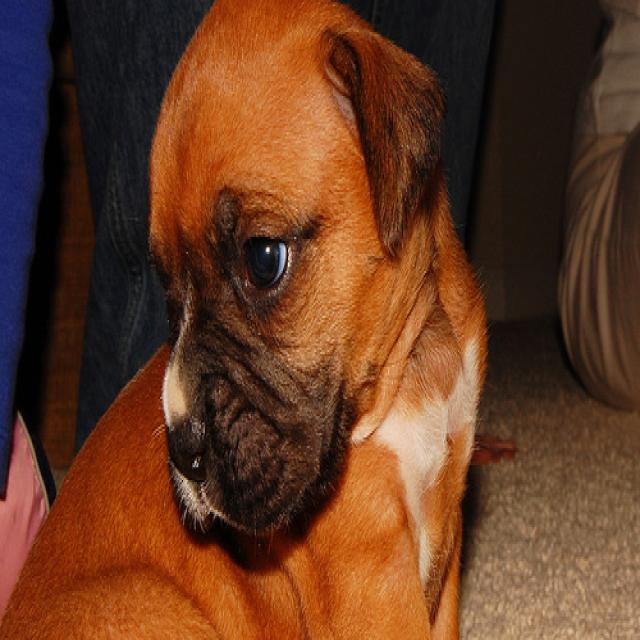dog-boxer: (1, 2, 495, 636)
